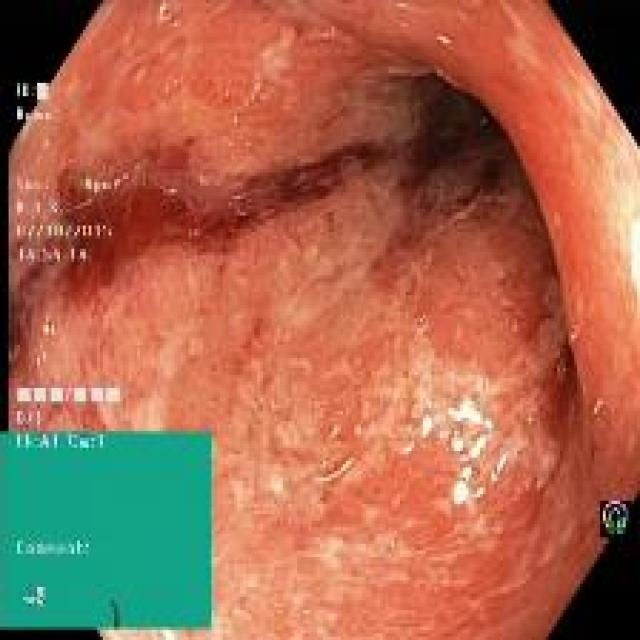ulcerative-colitis-grade-3: (10, 3, 640, 638)
